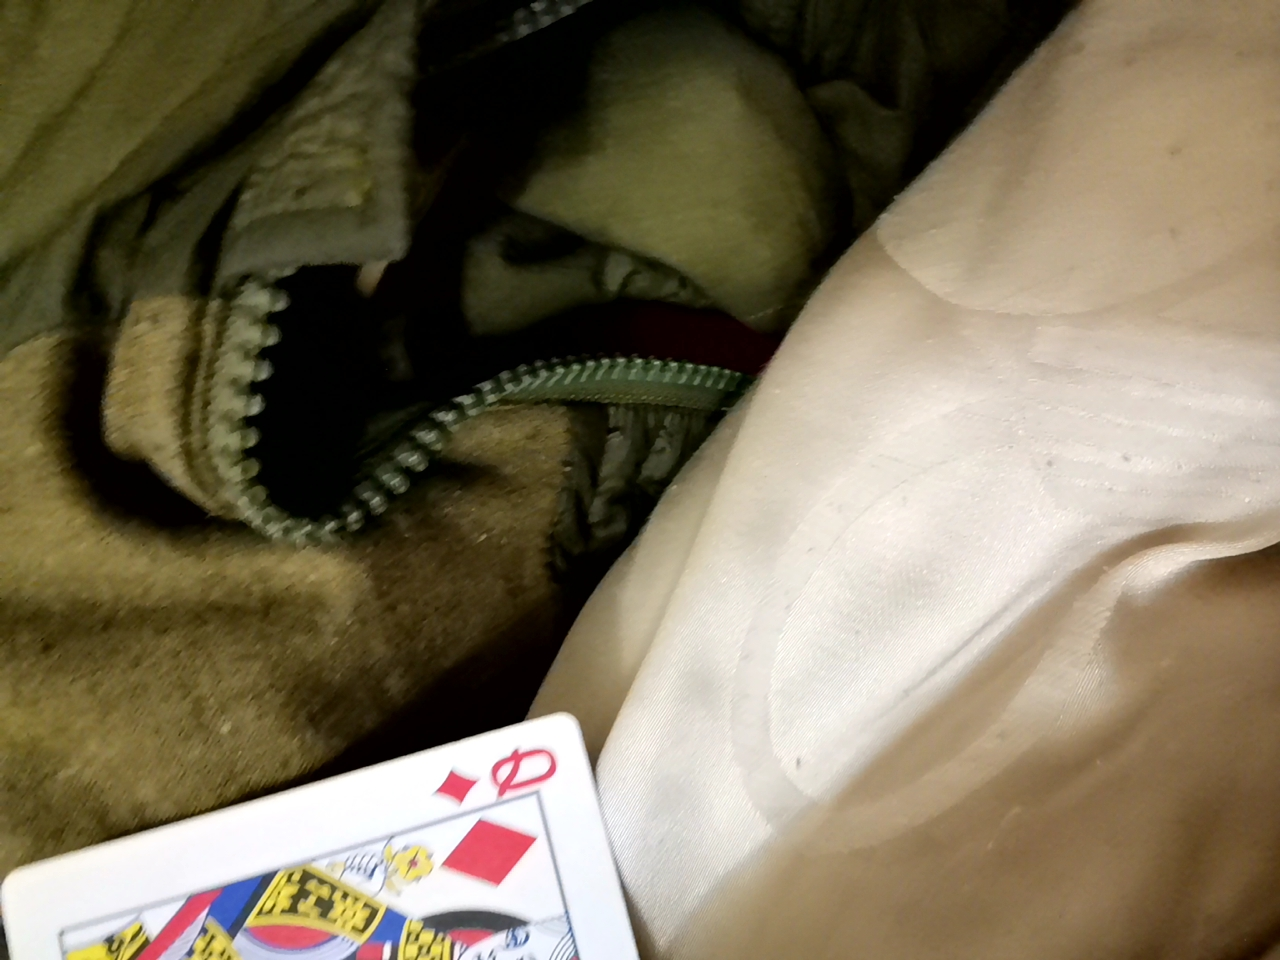fk q: (18, 695, 668, 958)
